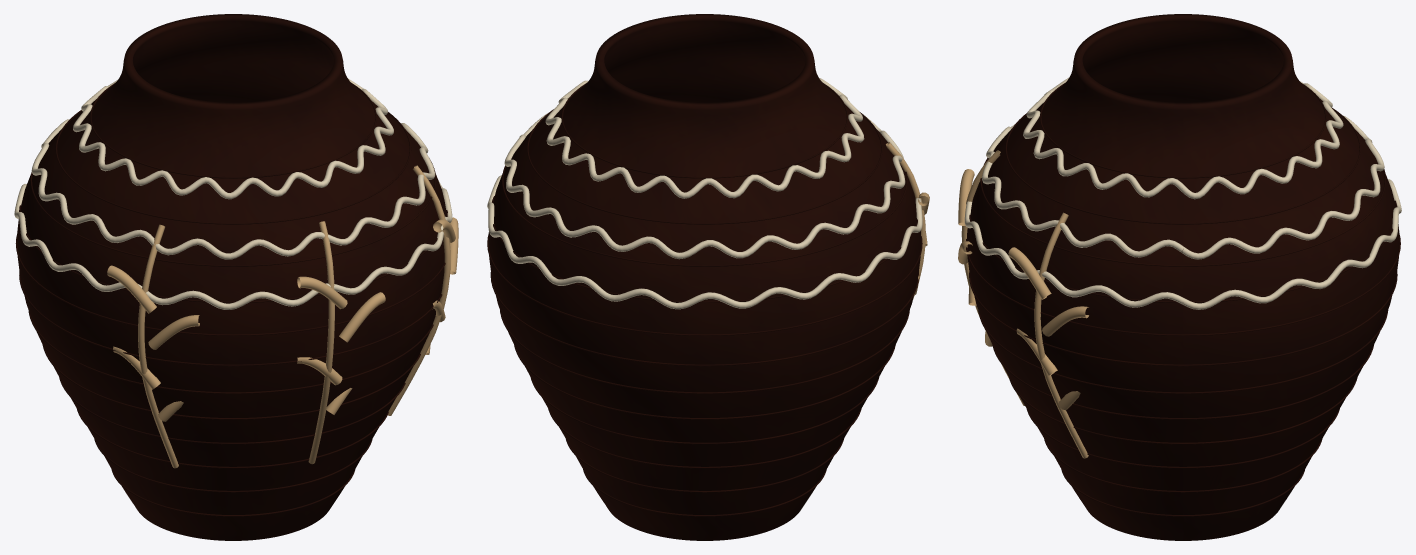
The model's file is bcm-1117.glb.
3 views of the same model, side by side, from view 1: azimuth 30°, elevation 25°; view 2: azimuth 150°, elevation 25°; view 3: azimuth 270°, elevation 25° (orthographic).
Visible parts, largest first — view 1: Continuous hollow vessel with formed lip, Finger-drawn glaze motif (approximate), Botanical stem - simplified; view 2: Continuous hollow vessel with formed lip, Finger-drawn glaze motif (approximate), Botanical stem - simplified; view 3: Continuous hollow vessel with formed lip, Finger-drawn glaze motif (approximate), Botanical stem - simplified.
Part boxes in pixels (bbox=[...]): Continuous hollow vessel with formed lip: bbox=[15, 14, 447, 540]; Finger-drawn glaze motif (approximate): bbox=[14, 78, 452, 309]; Botanical stem - simplified: bbox=[107, 165, 458, 468]; Continuous hollow vessel with formed lip: bbox=[487, 14, 922, 540]; Finger-drawn glaze motif (approximate): bbox=[487, 78, 922, 309]; Botanical stem - simplified: bbox=[886, 142, 929, 299]; Continuous hollow vessel with formed lip: bbox=[966, 14, 1400, 540]; Finger-drawn glaze motif (approximate): bbox=[964, 77, 1401, 309]; Botanical stem - simplified: bbox=[958, 150, 1088, 458].
Bounding box in the file's own units: 0.9212 × 1.02 × 0.935.
